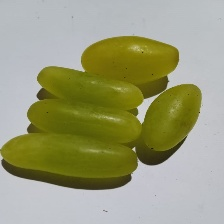grapes: (31, 38, 208, 181)
